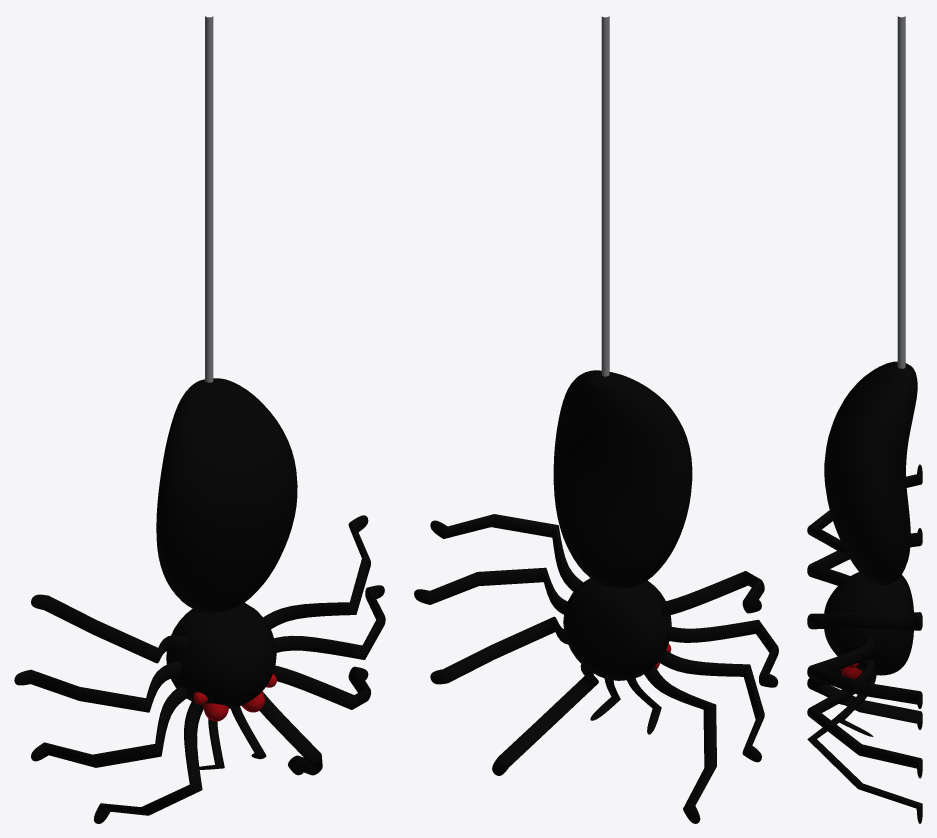
File: Spider.glb
The picture shows the model from 3 angles, left to right: view 1: azimuth 30°, elevation 25°; view 2: azimuth 150°, elevation 25°; view 3: azimuth 270°, elevation 25°; orthographic projection. The views are drawn at different scales.
Parts seen in each view (by area): view 1: Spider; view 2: Spider; view 3: Spider.
Boxes of the visible parts, x1,y1,x2,y2 form: Spider: (14,16,385,823); Spider: (414,16,778,823); Spider: (807,16,922,823).
Size of the model in its own units: 1.89 by 3.86 by 0.5305.
